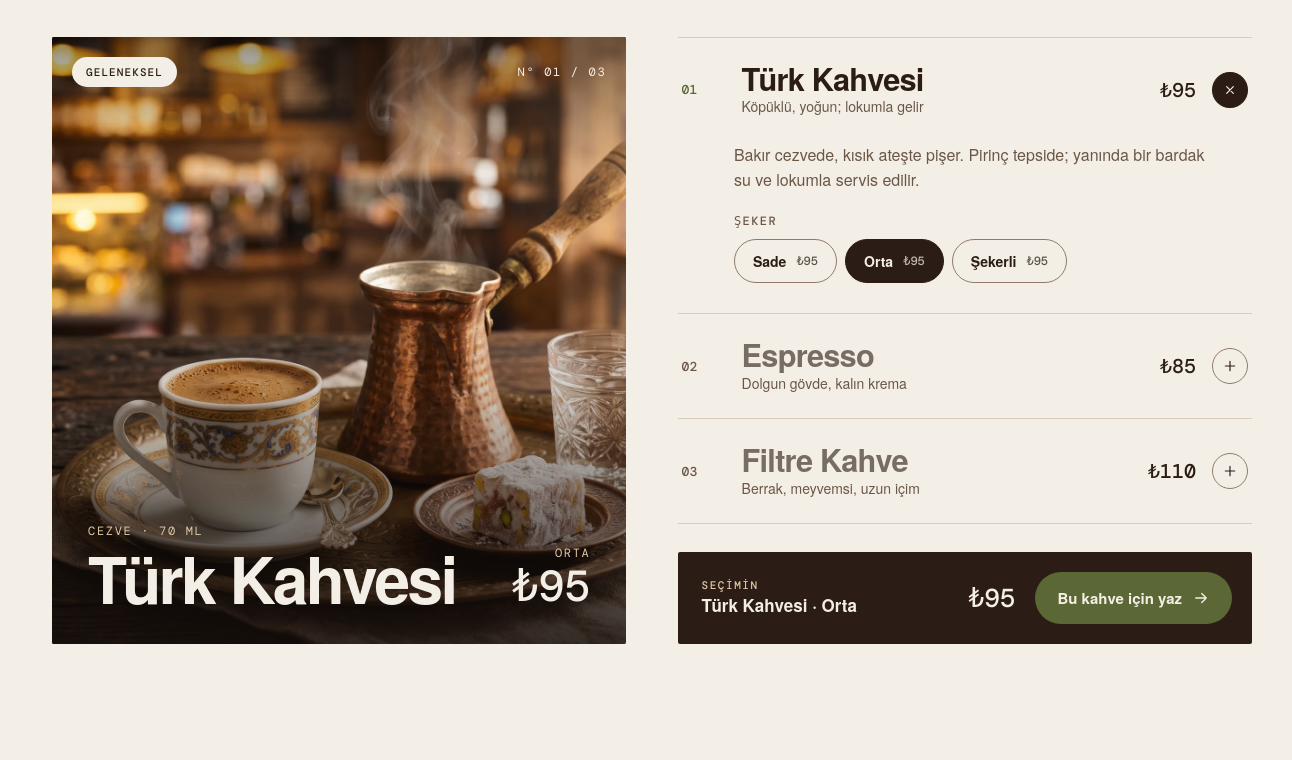
Test: CoffeeMenuSection › "Bu kahve için yaz" seçimi form konusu yapar ve iletişime gider
The image size is (1292, 760).
(page scrolled)
Click the button "03 Filtre Kahve Berrak, meyvemsi, uzun içim ₺110" at (825, 459), box [678,419,1252,523]
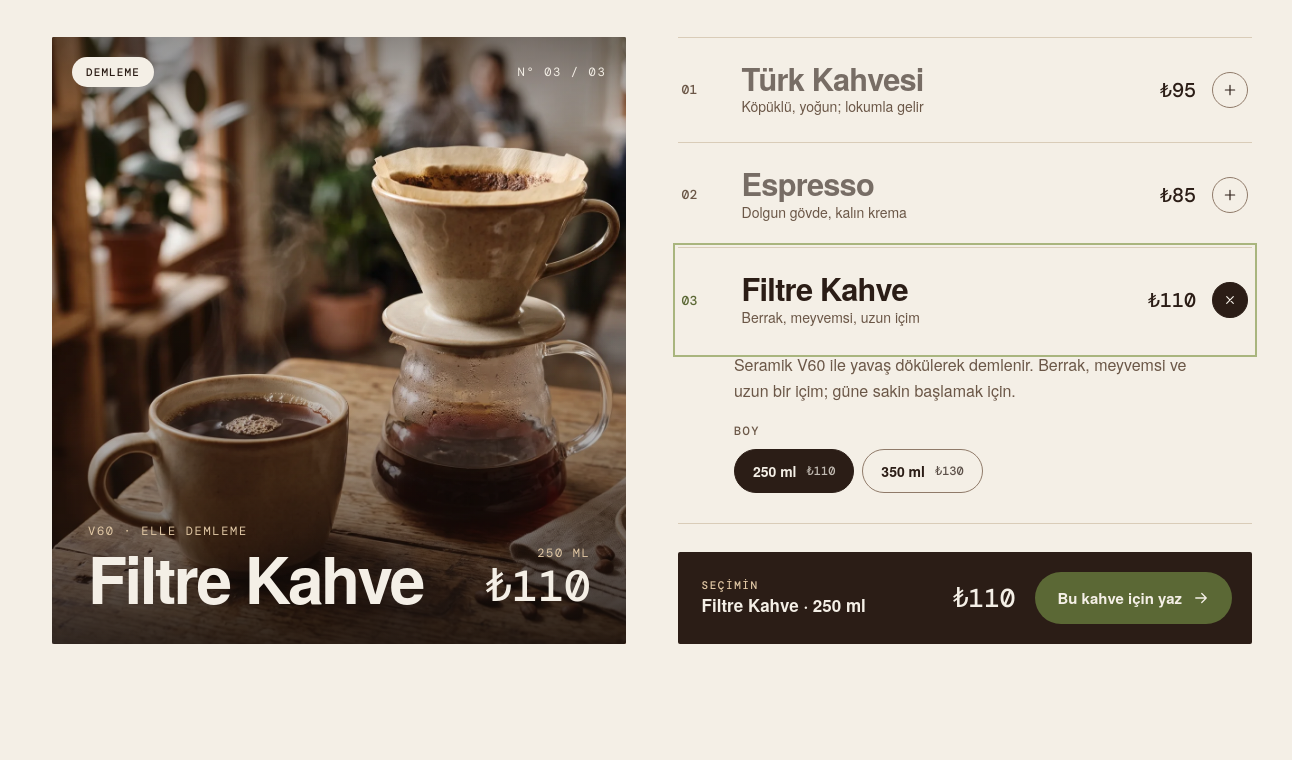
Click the button "350 ml ₺130" at (922, 471), box [862,449,983,493]
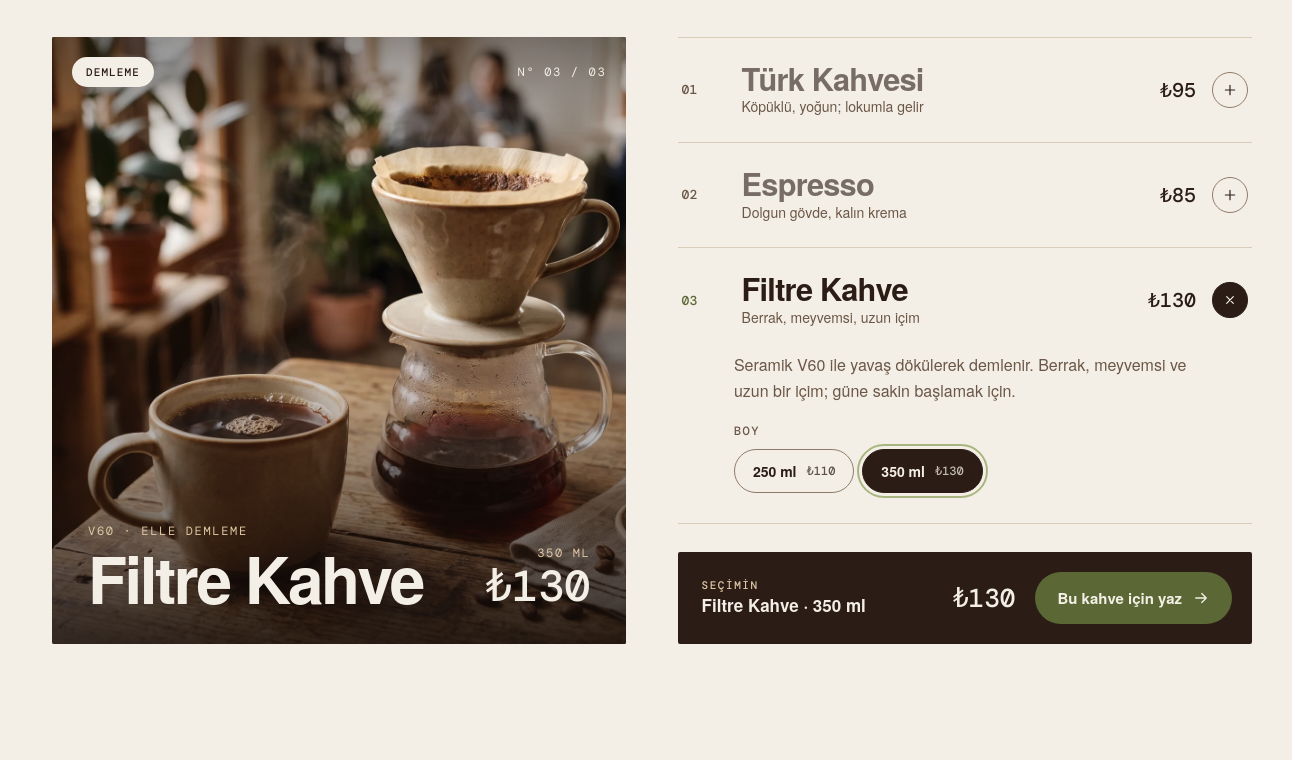
Click the link "Bu kahve için yaz" at (1134, 598), box [1035,572,1232,624]
(page scrolled)
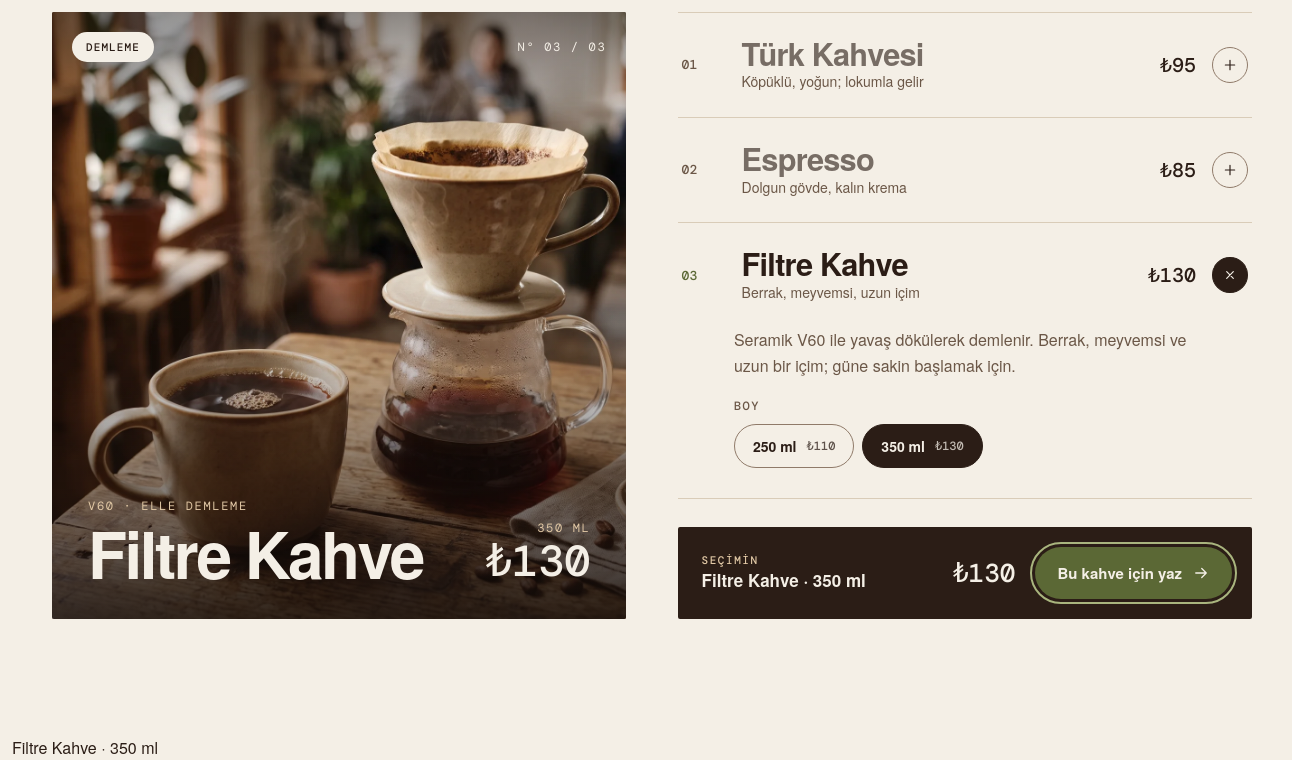
Result: the text with test id "topic" reads "Filtre Kahve · 350 ml" at [12,736,158,758]
